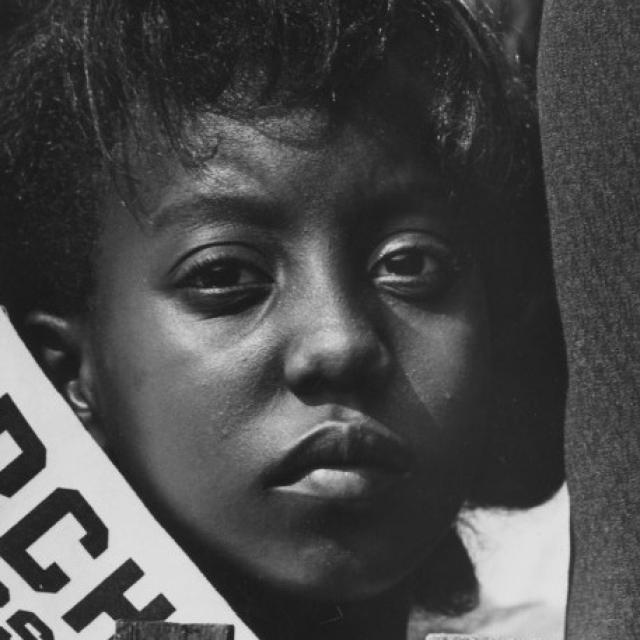Depress: (100, 53, 499, 611)
